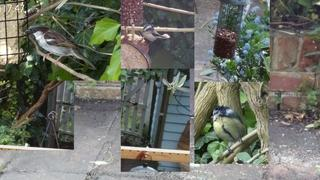blue tit: (211, 106, 246, 154)
long tailed tit: (139, 24, 170, 45)
sparrow: (24, 24, 97, 69)
